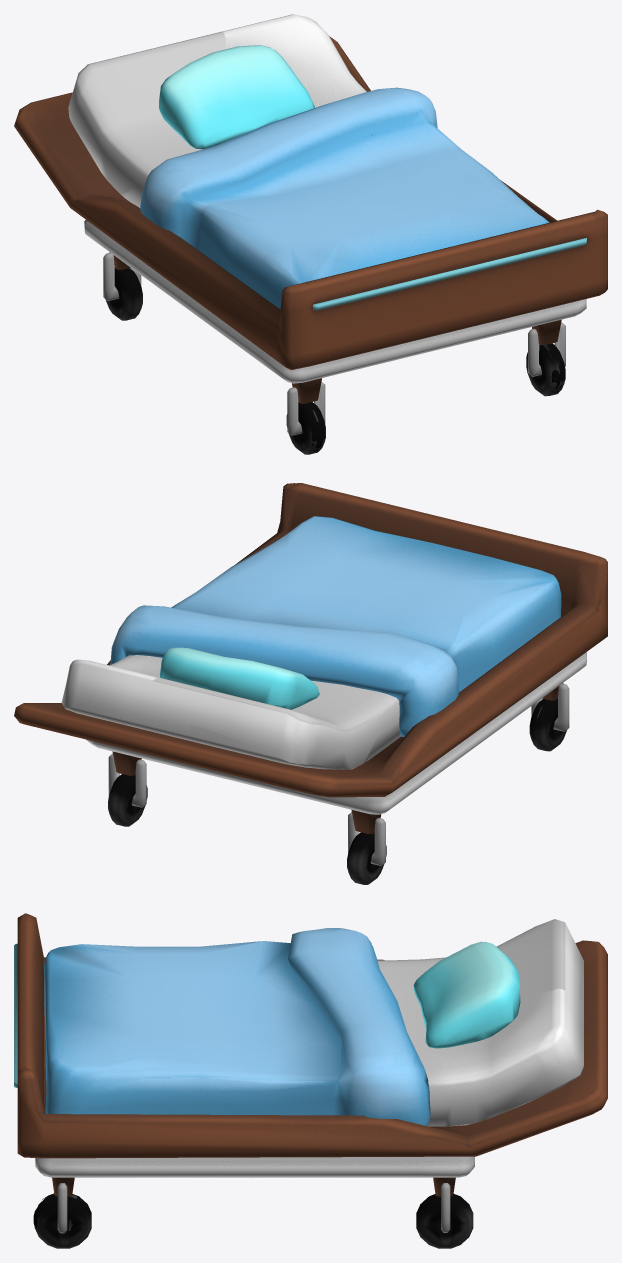
File: hospital_bed.fbx
The picture shows the model from 3 angles, top to bottom: view 1: azimuth 30°, elevation 25°; view 2: azimuth 150°, elevation 25°; view 3: azimuth 270°, elevation 25°; orthographic projection. The views are drawn at different scales.
Parts seen in each view (by area): view 1: Cube.019, Cube.002, Cube.021, Cube.001, Cube.007, Cube.020, Cube.014, Cube.016, Cube.012, Cube.017, Cube.011, Cube.010; view 2: Cube.019, Cube.002, Cube.021, Cube.001, Cube.007, Cube.018, Cube.014, Cube.016, Cube.013, Cube.010, Cube.017; view 3: Cube.019, Cube.002, Cube.021, Cube.007, Cube.001, Cube.018, Cube.012, Cube.020, Cube.011, Cube.013.
Part boxes in pixels (x1,y1,x2,y2): Cube.019: (140,87,549,309); Cube.002: (14,36,607,370); Cube.021: (68,14,366,207); Cube.001: (159,45,314,149); Cube.007: (84,220,586,383); Cube.020: (313,238,586,310); Cube.014: (286,402,325,454); Cube.016: (105,268,142,320); Cube.012: (526,347,565,396); Cube.017: (287,381,325,435); Cube.011: (528,322,565,376); Cube.010: (103,252,141,300); Cube.019: (110,516,561,736); Cube.002: (14,483,607,797); Cube.021: (61,655,400,769); Cube.001: (160,647,319,709); Cube.007: (86,652,586,814); Cube.018: (108,774,147,826); Cube.014: (529,699,566,751); Cube.016: (347,832,386,884); Cube.013: (108,753,146,807); Cube.010: (348,812,385,865); Cube.017: (531,683,569,731); Cube.019: (44,928,430,1126); Cube.002: (17,913,607,1158); Cube.021: (377,919,583,1126); Cube.007: (35,1156,474,1177); Cube.001: (413,941,520,1048); Cube.018: (416,1194,473,1248); Cube.012: (34,1194,91,1248); Cube.020: (14,943,17,1087); Cube.011: (57,1183,67,1233); Cube.013: (441,1183,450,1232).
Size of the model in its own units: 355 by 226 by 545.
